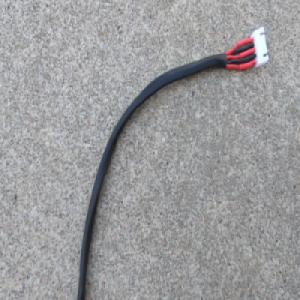Wire: (75, 24, 270, 300)
